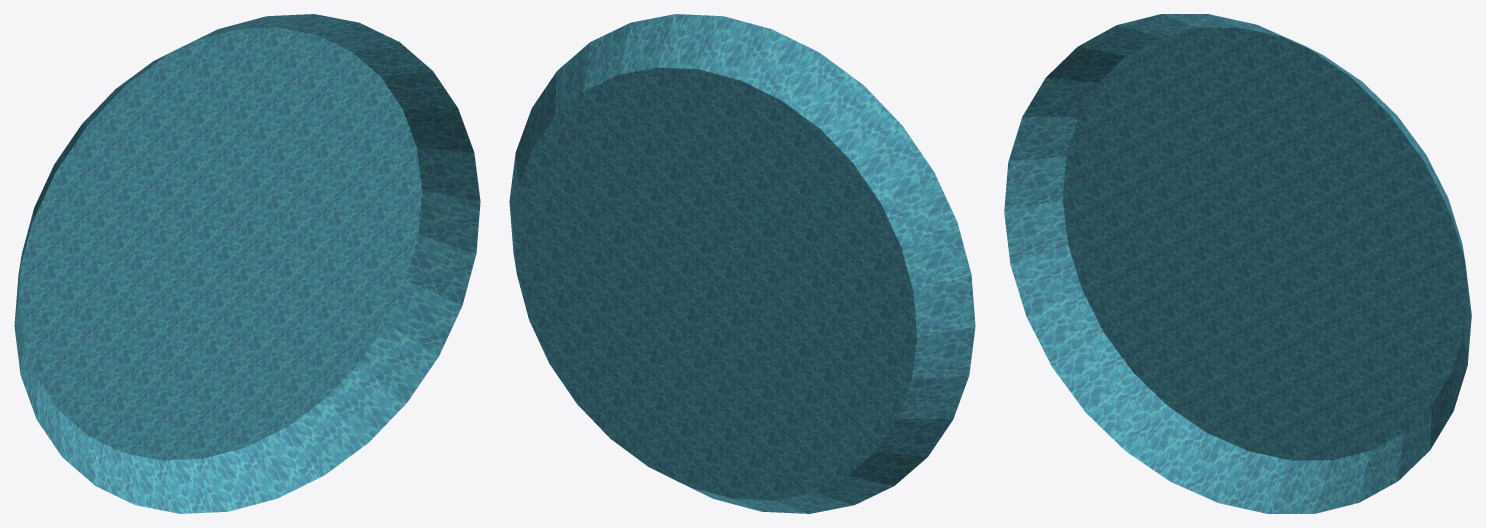
The model's file is complex_land_for_water.obj.
The picture shows the model from 3 angles, left to right: view 1: azimuth 30°, elevation 25°; view 2: azimuth 150°, elevation 25°; view 3: azimuth 330°, elevation 25°; orthographic projection.
Parts seen in each view (by area): view 1: grass; view 2: grass; view 3: grass.
Part boxes in pixels (x1,y1,x2,y2): grass: (14,14,480,513); grass: (509,14,975,513); grass: (1004,14,1471,513).
Size of the model in its own units: 200 by 199 by 20.2.
1 material, 1 textured.
